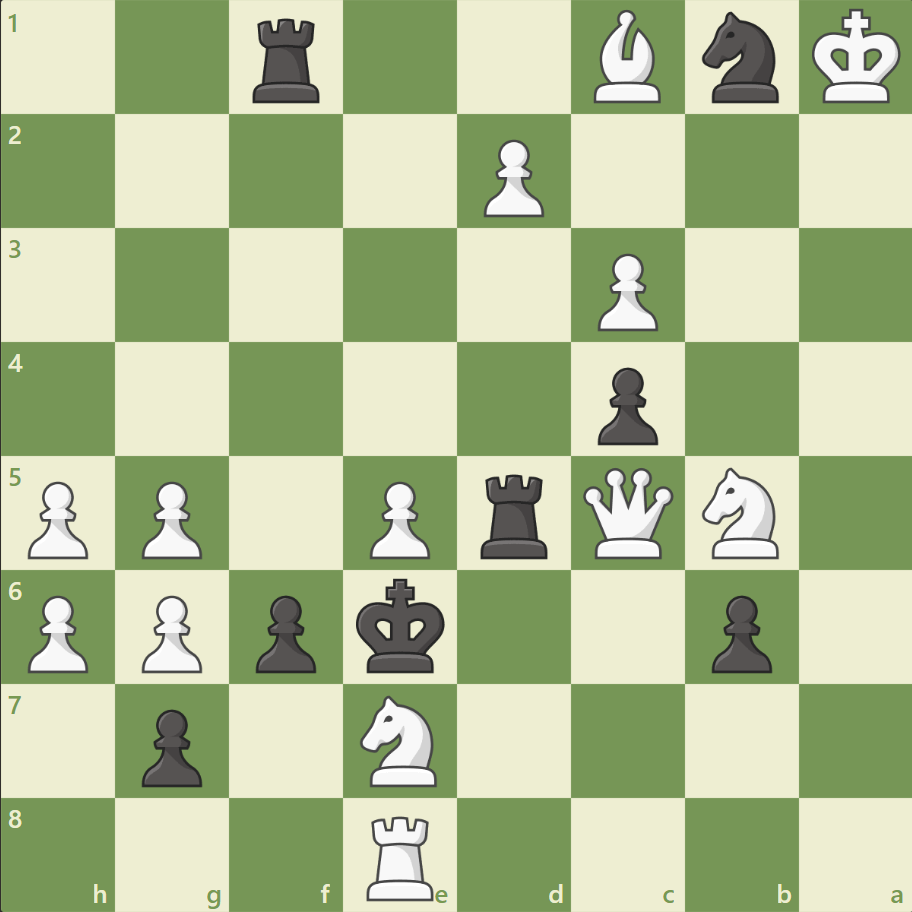B: (585, 6, 669, 109)
K: (806, 4, 906, 112)
N: (351, 688, 449, 791), (692, 461, 789, 564)
P: (133, 586, 208, 677), (20, 586, 95, 677), (133, 473, 208, 564), (20, 473, 95, 564), (474, 132, 549, 223), (361, 473, 435, 564), (588, 246, 662, 337)
Q: (578, 463, 677, 562)
R: (360, 806, 442, 904)
k: (351, 571, 451, 679)
n: (692, 7, 789, 110)
p: (133, 700, 208, 791), (701, 586, 776, 677), (247, 586, 322, 677), (588, 359, 662, 450)
r: (473, 466, 556, 563), (246, 12, 329, 109)
